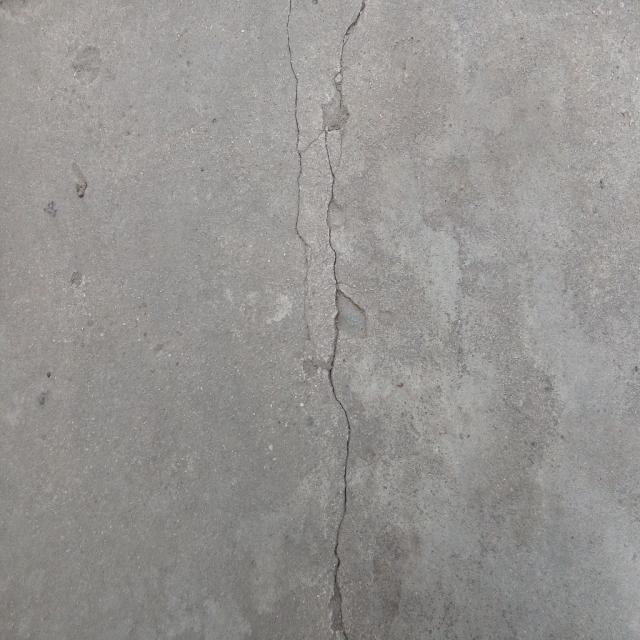cracks: (272, 3, 385, 640)
